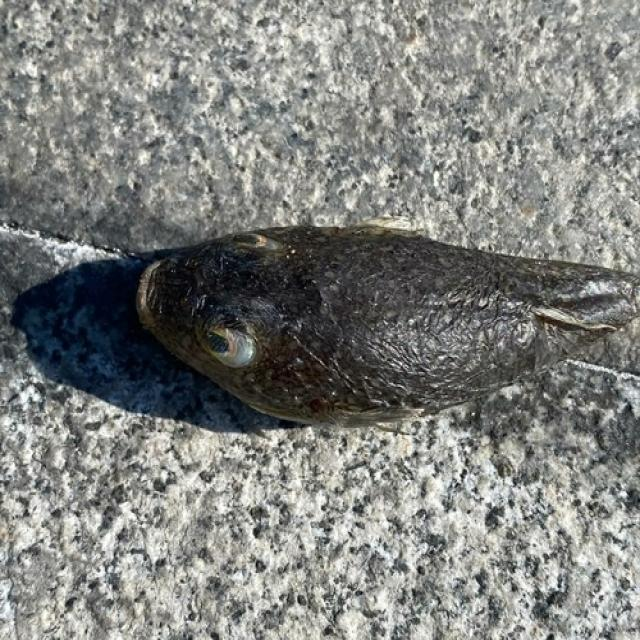Balik: (137, 225, 639, 425)
